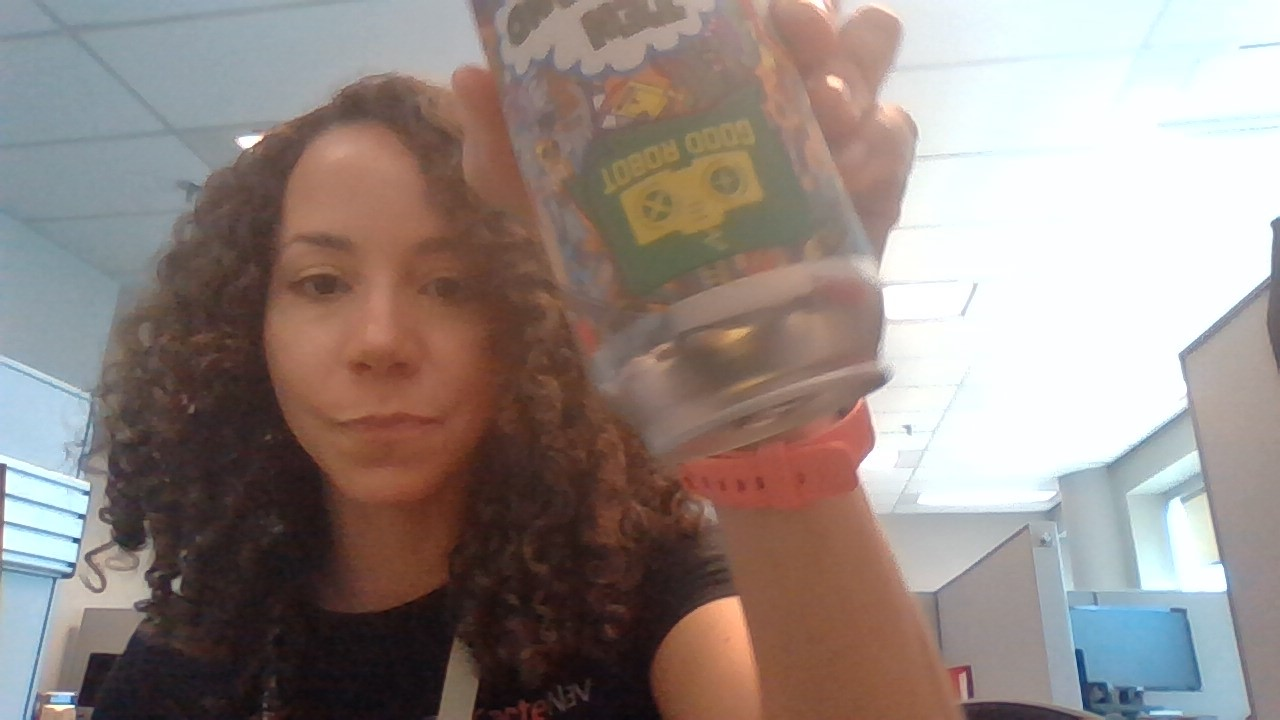Good Robot: (598, 147, 790, 256)
